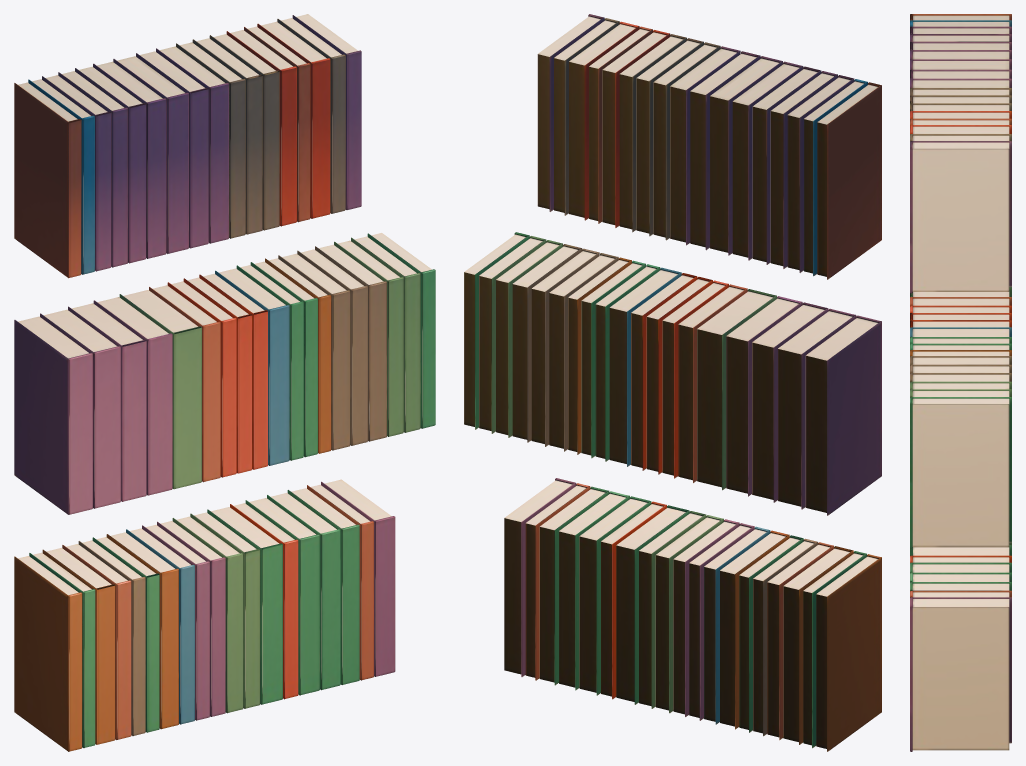
File: books.glb
The picture shows the model from 3 angles, left to right: view 1: azimuth 30°, elevation 25°; view 2: azimuth 150°, elevation 25°; view 3: azimuth 270°, elevation 25°; orthographic projection. The views are drawn at different scales.
Visible parts, largest first — view 1: Body_9780553579901, Body_9782253011019, Body_9782742793129, Body_9780140449266, Body_9780553573428, Body_9780553582017, Body_9780553582024, Body_9780374528379, Body_9781408855690, Body_9782072927515, Body_9780140447927, Body_9780553386790 (+43 smaller); view 2: Body_9780553579901, Body_9782253011019, Body_9782742793129, Body_9780140449266, Body_9780553573428, Body_9780553582024, Body_9780553582017, Body_9780374528379, Body_9781408855690, Body_9782072927515, Body_9780140447927, Body_9780553386790 (+43 smaller); view 3: Body_9780553386790, Body_9782290308370, Body_9780140441208, Body_9780140447927, Body_9781408855690, Body_9780140449136, Body_9782072927515, Body_9781408855683, Body_9781408855706, Body_9781408855713, Body_9780374528379, Body_9780812972078 (+27 smaller).
Boxes of the visible parts, left/top/right/bottom form: Body_9780553579901: left=14, top=316, right=92, bottom=514; Body_9782253011019: left=14, top=556, right=82, bottom=751; Body_9782742793129: left=14, top=82, right=81, bottom=278; Body_9780140449266: left=119, top=290, right=201, bottom=489; Body_9780553573428: left=40, top=309, right=120, bottom=508; Body_9780553582017: left=93, top=297, right=172, bottom=495; Body_9780553582024: left=68, top=303, right=146, bottom=501; Body_9780374528379: left=207, top=507, right=282, bottom=704; Body_9781408855690: left=113, top=56, right=188, bottom=253; Body_9782072927515: left=215, top=268, right=289, bottom=465; Body_9780140447927: left=245, top=498, right=319, bottom=695; Body_9780553386790: left=321, top=479, right=395, bottom=676; Body_9780553579901: left=805, top=315, right=881, bottom=515; Body_9782253011019: left=816, top=554, right=881, bottom=751; Body_9782742793129: left=817, top=82, right=881, bottom=279; Body_9780140449266: left=697, top=289, right=776, bottom=490; Body_9780553573428: left=778, top=308, right=856, bottom=509; Body_9780553582024: left=752, top=302, right=828, bottom=502; Body_9780553582017: left=726, top=296, right=802, bottom=496; Body_9780374528379: left=616, top=505, right=689, bottom=704; Body_9781408855690: left=710, top=56, right=782, bottom=255; Body_9782072927515: left=609, top=267, right=681, bottom=466; Body_9780140447927: left=579, top=496, right=651, bottom=695; Body_9780553386790: left=504, top=478, right=576, bottom=676; Body_9780553386790: left=910, top=597, right=1011, bottom=751; Body_9782290308370: left=910, top=141, right=1011, bottom=293; Body_9780140441208: left=910, top=397, right=1011, bottom=548; Body_9780140447927: left=910, top=562, right=1011, bottom=572; Body_9781408855690: left=910, top=59, right=1011, bottom=69; Body_9780140449136: left=910, top=572, right=1011, bottom=581; Body_9782072927515: left=910, top=327, right=1011, bottom=336; Body_9781408855683: left=910, top=50, right=1011, bottom=59; Body_9781408855706: left=910, top=69, right=1011, bottom=78; Body_9781408855713: left=910, top=78, right=1011, bottom=87; Body_9780374528379: left=910, top=545, right=1011, bottom=555; Body_9780812972078: left=910, top=582, right=1011, bottom=590.
Bounding box in the file's own units: 0.5846 × 0.957 × 0.15.
1 material, 1 textured.
